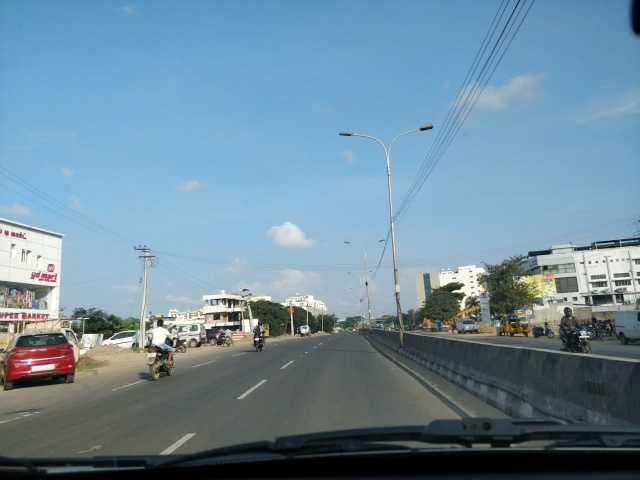auto: (499, 312, 529, 337)
car: (2, 329, 73, 391), (103, 331, 145, 355), (454, 317, 479, 334), (298, 325, 311, 335)
motorbike: (557, 306, 596, 364), (145, 318, 178, 381), (252, 321, 267, 353), (531, 320, 555, 338)
